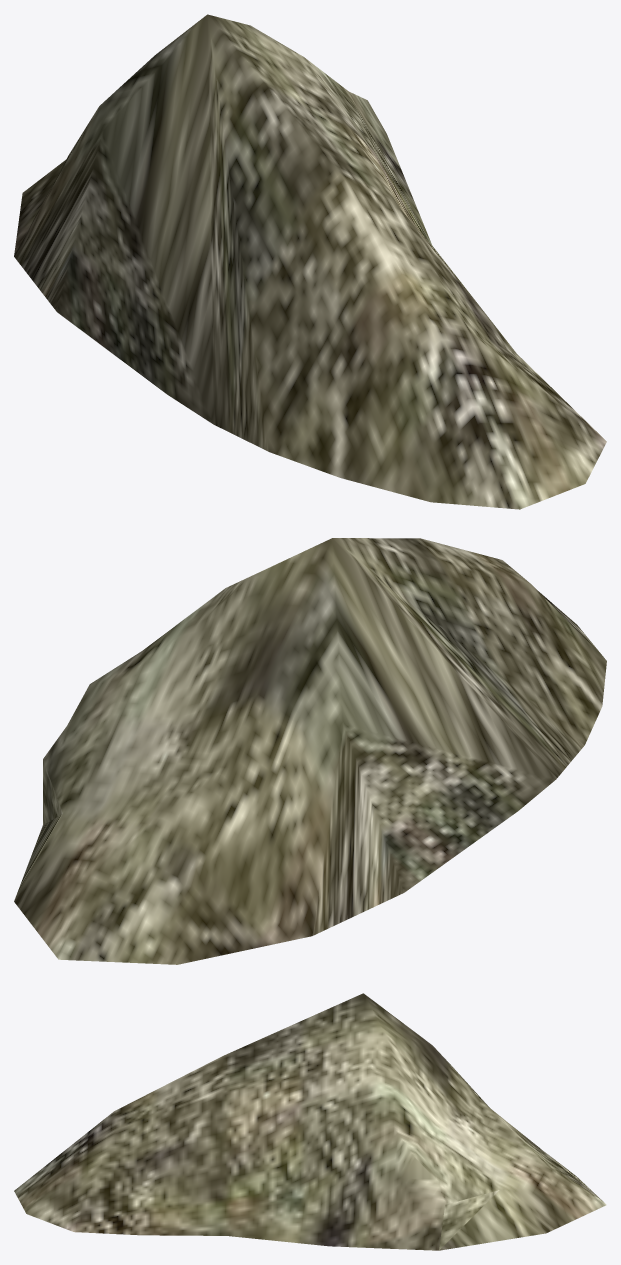
Rendered from stone_granite_peak_a.glb.
3 renders of one model, top to bottom at view 1: azimuth 30°, elevation 25°; view 2: azimuth 150°, elevation 25°; view 3: azimuth 270°, elevation 25°, orthographic. The views are drawn at different scales.
Parts seen in each view (by area): view 1: stone_granite_peak_a; view 2: stone_granite_peak_a; view 3: stone_granite_peak_a.
Part boxes in pixels (<box>): stone_granite_peak_a: <box>14,14,606,509</box>; stone_granite_peak_a: <box>14,538,606,964</box>; stone_granite_peak_a: <box>14,993,606,1250</box>.
Bounding box in the file's own units: 4.06 × 3.39 × 9.71.
1 material, 1 textured.
